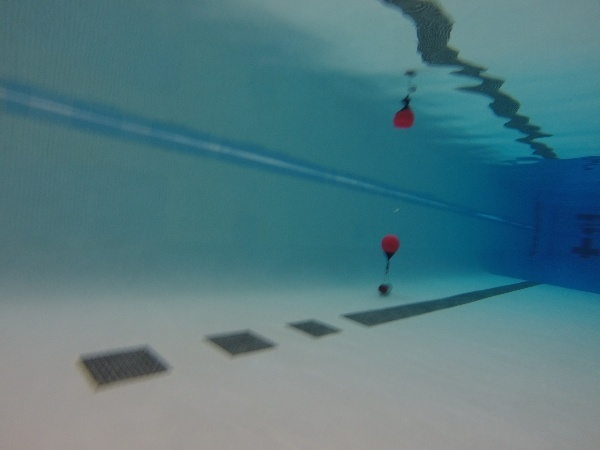buoy_red: (380, 234, 401, 260)
